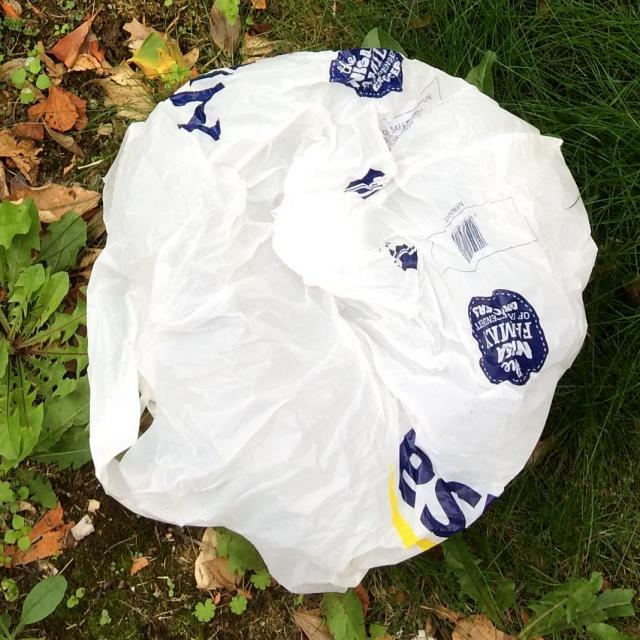Plastic: (85, 44, 597, 594)
